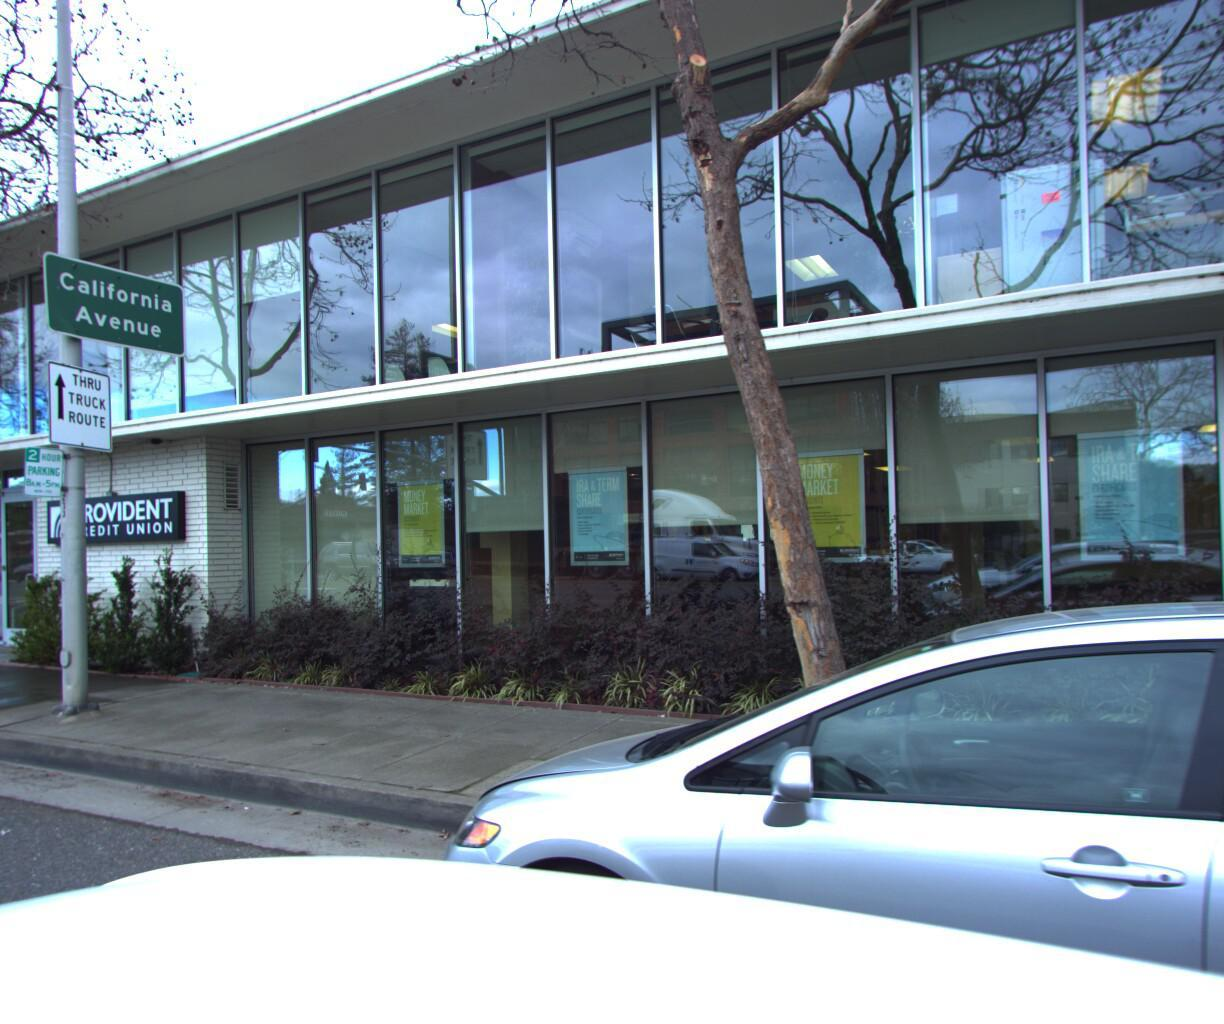car: (318, 557, 1224, 1024)
